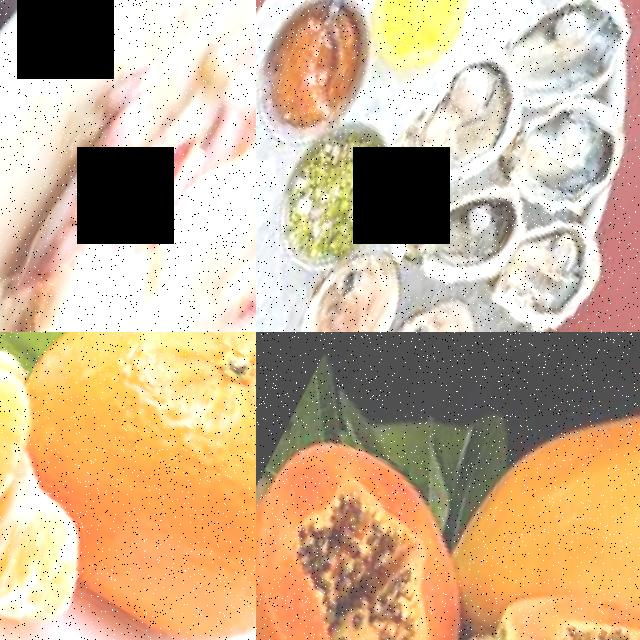lemon: (355, 0, 492, 80)
orange: (0, 332, 256, 640)
oysters: (390, 18, 538, 207), (391, 134, 537, 302), (490, 56, 637, 219), (484, 183, 616, 332), (496, 0, 639, 112)
pawpaw: (256, 401, 487, 640), (498, 332, 640, 640)
